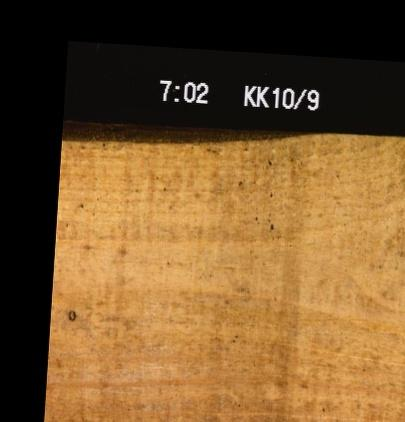dry_knot: (66, 306, 76, 321)
wave: (61, 123, 312, 147)
